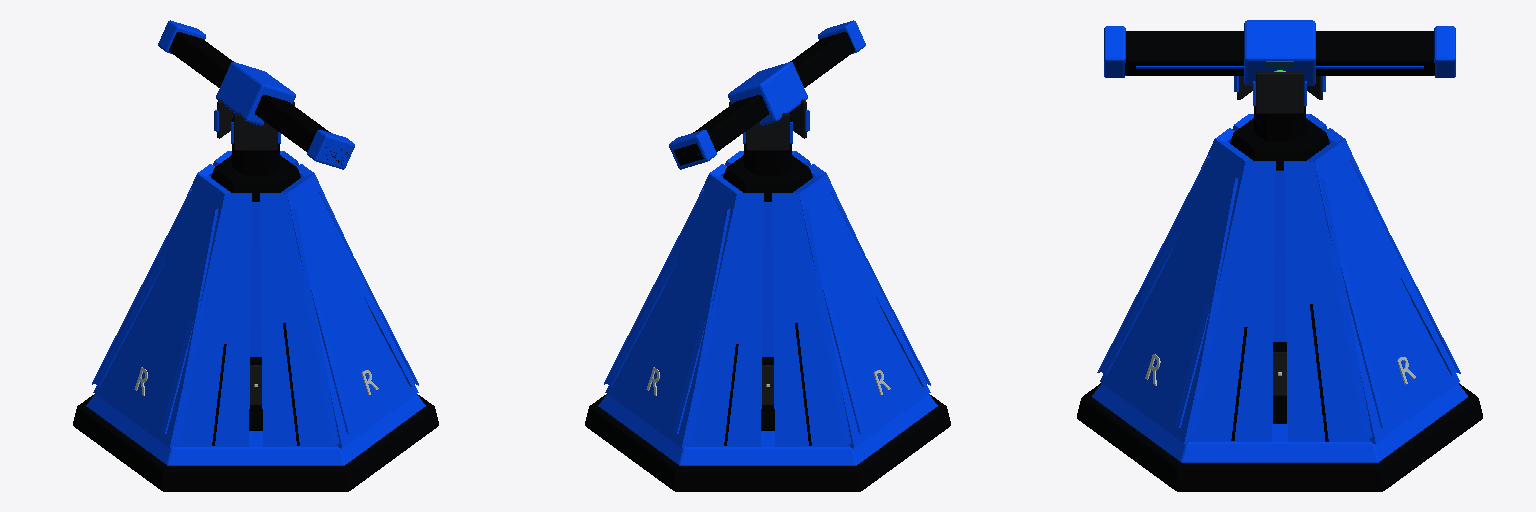
URDF robot description (arena2027_blue_base):
<?xml version='1.0' encoding='utf-8'?>
<robot name="arena2027_blue_base"><link name="base_link"><visual name="TopArmor_2_TeamGlow"><geometry><mesh filename="part_000.obj" /></geometry><material name="material_0"><color rgba="0.04 0.32 0.95 1" /></material></visual><collision name="collision_0"><geometry><mesh filename="part_000.obj" /></geometry></collision><visual name="SmallArmor.002"><geometry><mesh filename="part_001.obj" /></geometry><material name="material_1"><color rgba="0.12156862745098039 0.12549019607843137 0.13333333333333333 1.0" /></material></visual><collision name="collision_1"><geometry><mesh filename="part_001.obj" /></geometry></collision><visual name="TopArmor_1_TeamGlow"><geometry><mesh filename="part_002.obj" /></geometry><material name="material_2"><color rgba="0.04 0.32 0.95 1" /></material></visual><collision name="collision_2"><geometry><mesh filename="part_002.obj" /></geometry></collision><visual name="SmallArmor.001"><geometry><mesh filename="part_003.obj" /></geometry><material name="material_3"><color rgba="0.12156862745098039 0.12549019607843137 0.13333333333333333 1.0" /></material></visual><collision name="collision_3"><geometry><mesh filename="part_003.obj" /></geometry></collision><visual name="TopArmor_0_TeamGlow"><geometry><mesh filename="part_004.obj" /></geometry><material name="material_4"><color rgba="0.04 0.32 0.95 1" /></material></visual><collision name="collision_4"><geometry><mesh filename="part_004.obj" /></geometry></collision><visual name="SmallArmor"><geometry><mesh filename="part_005.obj" /></geometry><material name="material_5"><color rgba="0.12156862745098039 0.12549019607843137 0.13333333333333333 1.0" /></material></visual><collision name="collision_5"><geometry><mesh filename="part_005.obj" /></geometry></collision><visual name="WeakSpot.002"><geometry><mesh filename="part_006.obj" /></geometry><material name="material_6"><color rgba="0.7215686274509804 0.7803921568627451 0.7686274509803922 1.0" /></material></visual><collision name="collision_6"><geometry><mesh filename="part_006.obj" /></geometry></collision><visual name="LowerArmor_2_TeamGlow"><geometry><mesh filename="part_007.obj" /></geometry><material name="material_7"><color rgba="0.04 0.32 0.95 1" /></material></visual><collision name="collision_7"><geometry><mesh filename="part_007.obj" /></geometry></collision><visual name="LargeArmorFrame.002"><geometry><mesh filename="part_008.obj" /></geometry><material name="material_8"><color rgba="0.03529411764705882 0.0392156862745098 0.043137254901960784 1.0" /></material></visual><collision name="collision_8"><geometry><mesh filename="part_008.obj" /></geometry></collision><visual name="LargeArmorFace.002"><geometry><mesh filename="part_009.obj" /></geometry><material name="material_9"><color rgba="0.12156862745098039 0.12549019607843137 0.13333333333333333 1.0" /></material></visual><collision name="collision_9"><geometry><mesh filename="part_009.obj" /></geometry></collision><visual name="WeakSpot.001"><geometry><mesh filename="part_010.obj" /></geometry><material name="material_10"><color rgba="0.7215686274509804 0.7803921568627451 0.7686274509803922 1.0" /></material></visual><collision name="collision_10"><geometry><mesh filename="part_010.obj" /></geometry></collision><visual name="LowerArmor_1_TeamGlow"><geometry><mesh filename="part_011.obj" /></geometry><material name="material_11"><color rgba="0.04 0.32 0.95 1" /></material></visual><collision name="collision_11"><geometry><mesh filename="part_011.obj" /></geometry></collision><visual name="LargeArmorFrame.001"><geometry><mesh filename="part_012.obj" /></geometry><material name="material_12"><color rgba="0.03529411764705882 0.0392156862745098 0.043137254901960784 1.0" /></material></visual><collision name="collision_12"><geometry><mesh filename="part_012.obj" /></geometry></collision><visual name="LargeArmorFace.001"><geometry><mesh filename="part_013.obj" /></geometry><material name="material_13"><color rgba="0.12156862745098039 0.12549019607843137 0.13333333333333333 1.0" /></material></visual><collision name="collision_13"><geometry><mesh filename="part_013.obj" /></geometry></collision><visual name="WeakSpot"><geometry><mesh filename="part_014.obj" /></geometry><material name="material_14"><color rgba="0.7215686274509804 0.7803921568627451 0.7686274509803922 1.0" /></material></visual><collision name="collision_14"><geometry><mesh filename="part_014.obj" /></geometry></collision><visual name="LowerArmor_0_TeamGlow"><geometry><mesh filename="part_015.obj" /></geometry><material name="material_15"><color rgba="0.04 0.32 0.95 1" /></material></visual><collision name="collision_15"><geometry><mesh filename="part_015.obj" /></geometry></collision><visual name="LargeArmorFrame"><geometry><mesh filename="part_016.obj" /></geometry><material name="material_16"><color rgba="0.03529411764705882 0.0392156862745098 0.043137254901960784 1.0" /></material></visual><collision name="collision_16"><geometry><mesh filename="part_016.obj" /></geometry></collision><visual name="LargeArmorFace"><geometry><mesh filename="part_017.obj" /></geometry><material name="material_17"><color rgba="0.12156862745098039 0.12549019607843137 0.13333333333333333 1.0" /></material></visual><collision name="collision_17"><geometry><mesh filename="part_017.obj" /></geometry></collision><visual name="DartSensor"><geometry><mesh filename="part_018.obj" /></geometry><material name="material_18"><color rgba="0.12156862745098039 0.4 0.5019607843137255 1.0" /></material></visual><collision name="collision_18"><geometry><mesh filename="part_018.obj" /></geometry></collision><visual name="DartModule_TeamPrimaryShell"><geometry><mesh filename="part_019.obj" /></geometry><material name="material_19"><color rgba="0.04 0.32 0.95 1" /></material></visual><collision name="collision_19"><geometry><mesh filename="part_019.obj" /></geometry></collision><visual name="DartModule_TeamGlow"><geometry><mesh filename="part_020.obj" /></geometry><material name="material_20"><color rgba="0.04 0.32 0.95 1" /></material></visual><collision name="collision_20"><geometry><mesh filename="part_020.obj" /></geometry></collision><visual name="DartGuideLight"><geometry><mesh filename="part_021.obj" /></geometry><material name="material_21"><color rgba="0.2 1.0 0.25098039215686274 1.0" /></material></visual><collision name="collision_21"><geometry><mesh filename="part_021.obj" /></geometry></collision><visual name="DartBar"><geometry><mesh filename="part_022.obj" /></geometry><material name="material_22"><color rgba="0.03529411764705882 0.0392156862745098 0.043137254901960784 1.0" /></material></visual><collision name="collision_22"><geometry><mesh filename="part_022.obj" /></geometry></collision><visual name="ShellPanel.005"><geometry><mesh filename="part_023.obj" /></geometry><material name="material_23"><color rgba="0.04 0.32 0.95 1" /></material></visual><collision name="collision_23"><geometry><mesh filename="part_023.obj" /></geometry></collision><visual name="ShellLight.005"><geometry><mesh filename="part_024.obj" /></geometry><material name="material_24"><color rgba="0.04 0.32 0.95 1" /></material></visual><collision name="collision_24"><geometry><mesh filename="part_024.obj" /></geometry></collision><visual name="ShellGroove.005"><geometry><mesh filename="part_025.obj" /></geometry><material name="material_25"><color rgba="0.03529411764705882 0.0392156862745098 0.043137254901960784 1.0" /></material></visual><collision name="collision_25"><geometry><mesh filename="part_025.obj" /></geometry></collision><visual name="ShellPanel.004"><geometry><mesh filename="part_026.obj" /></geometry><material name="material_26"><color rgba="0.04 0.32 0.95 1" /></material></visual><collision name="collision_26"><geometry><mesh filename="part_026.obj" /></geometry></collision><visual name="ShellLight.004"><geometry><mesh filename="part_027.obj" /></geometry><material name="material_27"><color rgba="0.04 0.32 0.95 1" /></material></visual><collision name="collision_27"><geometry><mesh filename="part_027.obj" /></geometry></collision><visual name="ShellGroove.004"><geometry><mesh filename="part_028.obj" /></geometry><material name="material_28"><color rgba="0.03529411764705882 0.0392156862745098 0.043137254901960784 1.0" /></material></visual><collision name="collision_28"><geometry><mesh filename="part_028.obj" /></geometry></collision><visual name="ShellPanel.003"><geometry><mesh filename="part_029.obj" /></geometry><material name="material_29"><color rgba="0.04 0.32 0.95 1" /></material></visual><collision name="collision_29"><geometry><mesh filename="part_029.obj" /></geometry></collision><visual name="ShellLight.003"><geometry><mesh filename="part_030.obj" /></geometry><material name="material_30"><color rgba="0.04 0.32 0.95 1" /></material></visual><collision name="collision_30"><geometry><mesh filename="part_030.obj" /></geometry></collision><visual name="ShellGroove.003"><geometry><mesh filename="part_031.obj" /></geometry><material name="material_31"><color rgba="0.03529411764705882 0.0392156862745098 0.043137254901960784 1.0" /></material></visual><collision name="collision_31"><geometry><mesh filename="part_031.obj" /></geometry></collision><visual name="ShellPanel.002"><geometry><mesh filename="part_032.obj" /></geometry><material name="material_32"><color rgba="0.04 0.32 0.95 1" /></material></visual><collision name="collision_32"><geometry><mesh filename="part_032.obj" /></geometry></collision><visual name="ShellLight.002"><geometry><mesh filename="part_033.obj" /></geometry><material name="material_33"><color rgba="0.04 0.32 0.95 1" /></material></visual><collision name="collision_33"><geometry><mesh filename="part_033.obj" /></geometry></collision><visual name="ShellGroove.002"><geometry><mesh filename="part_034.obj" /></geometry><material name="material_34"><color rgba="0.03529411764705882 0.0392156862745098 0.043137254901960784 1.0" /></material></visual><collision name="collision_34"><geometry><mesh filename="part_034.obj" /></geometry></collision><visual name="ShellPanel.001"><geometry><mesh filename="part_035.obj" /></geometry><material name="material_35"><color rgba="0.04 0.32 0.95 1" /></material></visual><collision name="collision_35"><geometry><mesh filename="part_035.obj" /></geometry></collision><visual name="ShellLight.001"><geometry><mesh filename="part_036.obj" /></geometry><material name="material_36"><color rgba="0.04 0.32 0.95 1" /></material></visual><collision name="collision_36"><geometry><mesh filename="part_036.obj" /></geometry></collision><visual name="ShellGroove.001"><geometry><mesh filename="part_037.obj" /></geometry><material name="material_37"><color rgba="0.03529411764705882 0.0392156862745098 0.043137254901960784 1.0" /></material></visual><collision name="collision_37"><geometry><mesh filename="part_037.obj" /></geometry></collision><visual name="ShellPanel"><geometry><mesh filename="part_038.obj" /></geometry><material name="material_38"><color rgba="0.04 0.32 0.95 1" /></material></visual><collision name="collision_38"><geometry><mesh filename="part_038.obj" /></geometry></collision><visual name="ShellLight"><geometry><mesh filename="part_039.obj" /></geometry><material name="material_39"><color rgba="0.04 0.32 0.95 1" /></material></visual><collision name="collision_39"><geometry><mesh filename="part_039.obj" /></geometry></collision><visual name="ShellGroove"><geometry><mesh filename="part_040.obj" /></geometry><material name="material_40"><color rgba="0.03529411764705882 0.0392156862745098 0.043137254901960784 1.0" /></material></visual><collision name="collision_40"><geometry><mesh filename="part_040.obj" /></geometry></collision><visual name="Base_TeamPrimaryShell"><geometry><mesh filename="part_041.obj" /></geometry><material name="material_41"><color rgba="0.04 0.32 0.95 1" /></material></visual><collision name="collision_41"><geometry><mesh filename="part_041.obj" /></geometry></collision><visual name="Base_TeamGlow"><geometry><mesh filename="part_042.obj" /></geometry><material name="material_42"><color rgba="0.04 0.32 0.95 1" /></material></visual><collision name="collision_42"><geometry><mesh filename="part_042.obj" /></geometry></collision><visual name="Base_CeramicPanels"><geometry><mesh filename="part_043.obj" /></geometry><material name="material_43"><color rgba="0.7215686274509804 0.7803921568627451 0.7686274509803922 1.0" /></material></visual><collision name="collision_43"><geometry><mesh filename="part_043.obj" /></geometry></collision><visual name="Base_BaseInnerPanel"><geometry><mesh filename="part_044.obj" /></geometry><material name="material_44"><color rgba="0.12156862745098039 0.12549019607843137 0.13333333333333333 1.0" /></material></visual><collision name="collision_44"><geometry><mesh filename="part_044.obj" /></geometry></collision><visual name="Base_BaseGraphite"><geometry><mesh filename="part_045.obj" /></geometry><material name="material_45"><color rgba="0.03529411764705882 0.0392156862745098 0.043137254901960784 1.0" /></material></visual><collision name="collision_45"><geometry><mesh filename="part_045.obj" /></geometry></collision></link></robot>

--- Facts derived from the render (not from the file) ---
Views: 3 orthographic renders of the robot side by side, from view 1: azimuth 30°, elevation 25°; view 2: azimuth 150°, elevation 25°; view 3: azimuth 270°, elevation 25°.
Robot: arena2027_blue_base — 1 links, 0 joints (none); root link base_link; default pose: all joints at 0.
Links seen in each view (by area): view 1: base_link; view 2: base_link; view 3: base_link.
Boxes of the visible links, x1,y1,x2,y2 form: base_link: (73, 20, 438, 491); base_link: (585, 20, 950, 491); base_link: (1077, 20, 1482, 491).
Bounding box of the posed robot: 0.9839 × 1.13 × 1.21 m (x, y, z).
46 mesh visuals loaded from 46 distinct referenced files (46 OBJ).
